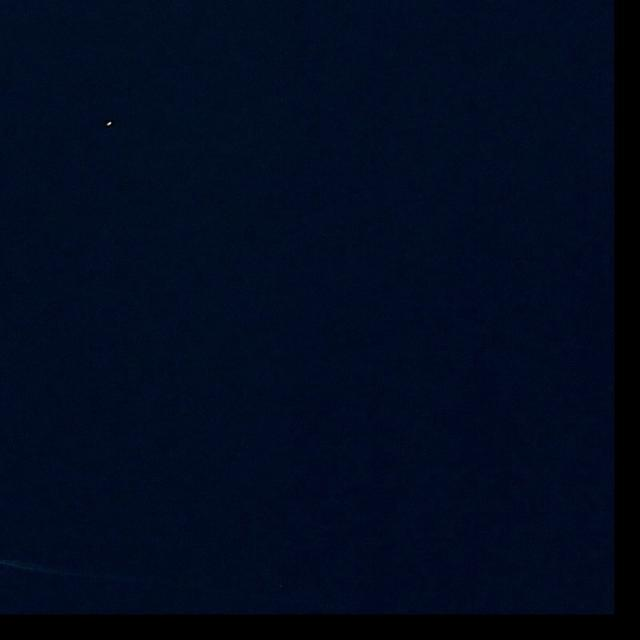ship: (106, 122, 113, 126)
